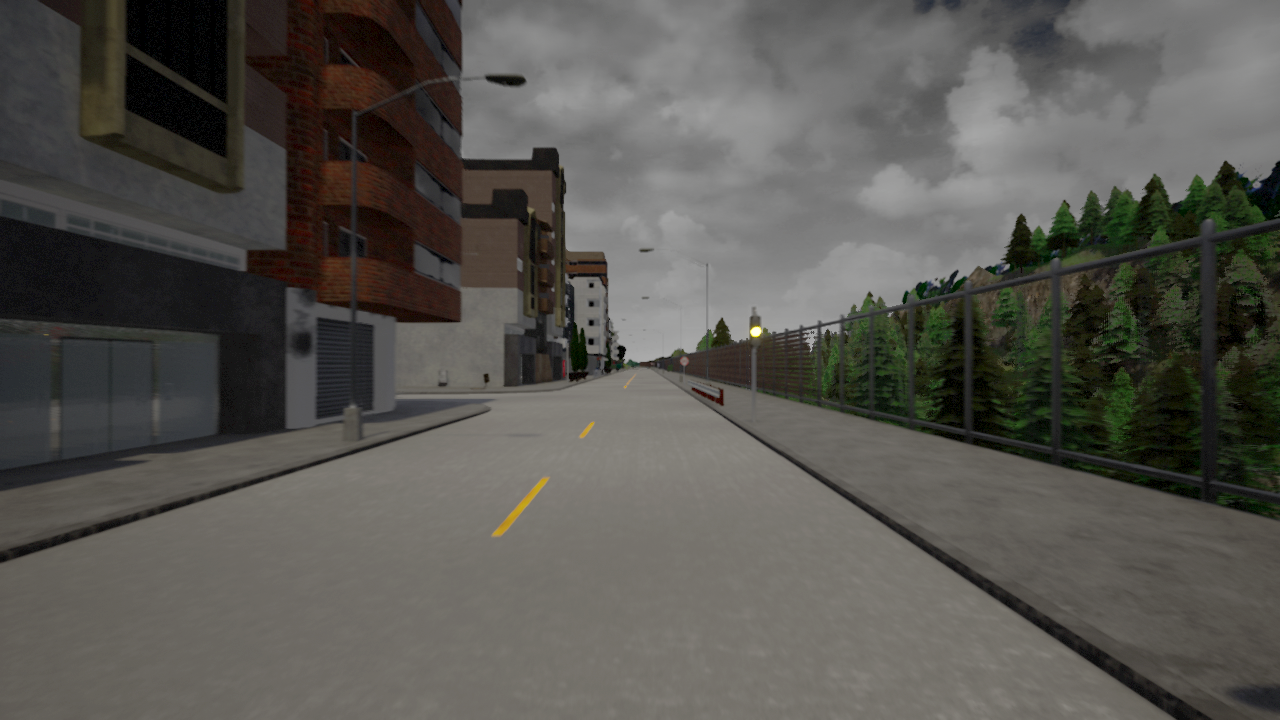yellow: (747, 315, 762, 348)
